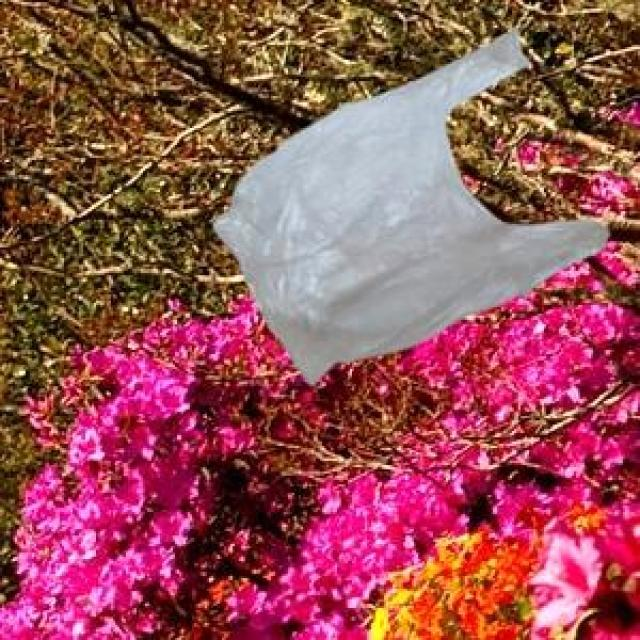Plastic_Bag: (212, 27, 605, 380)
